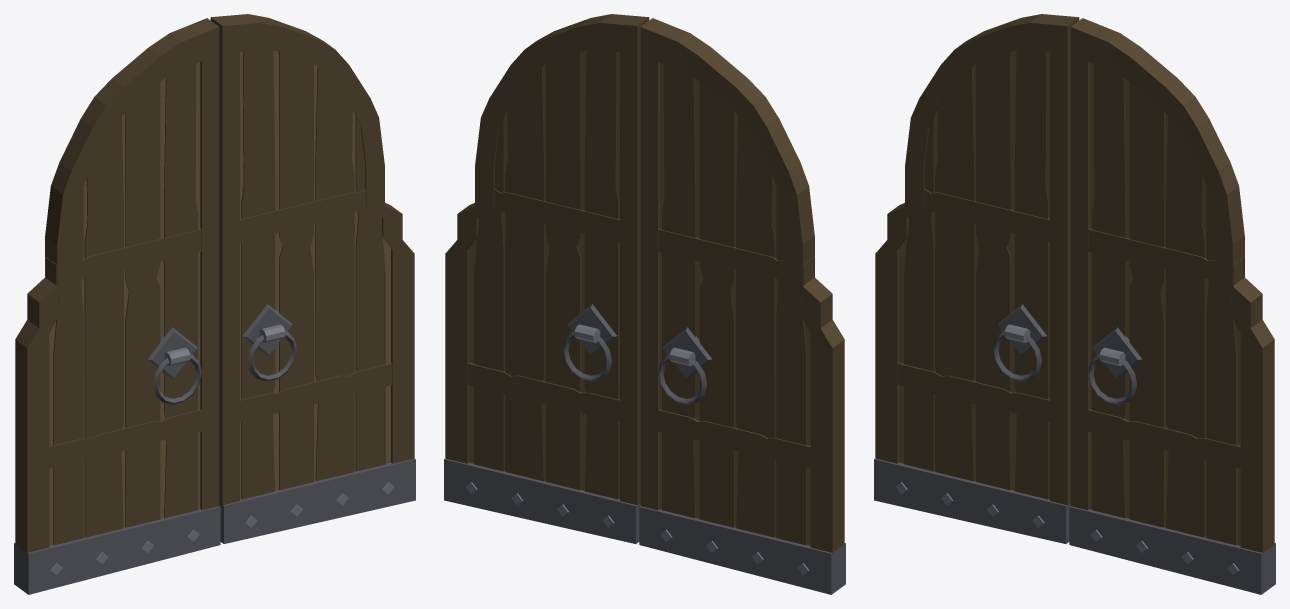
File: Doors_RoundArch.glb
3 renders of one model, left to right at view 1: azimuth 30°, elevation 25°; view 2: azimuth 150°, elevation 25°; view 3: azimuth 330°, elevation 25°, orthographic.
Visible parts, largest first — view 1: Doors_RoundArch_L, Doors_RoundArch_R; view 2: Doors_RoundArch_L, Doors_RoundArch_R; view 3: Doors_RoundArch_R, Doors_RoundArch_L.
Boxes of the visible parts, x1,y1,x2,y2 form: Doors_RoundArch_L: (14, 18, 220, 594); Doors_RoundArch_R: (210, 14, 415, 543); Doors_RoundArch_L: (639, 18, 845, 594); Doors_RoundArch_R: (444, 14, 649, 543); Doors_RoundArch_R: (1069, 18, 1275, 594); Doors_RoundArch_L: (874, 14, 1079, 543).
Bounding box in the file's own units: 2.31 × 2.97 × 0.2743.
